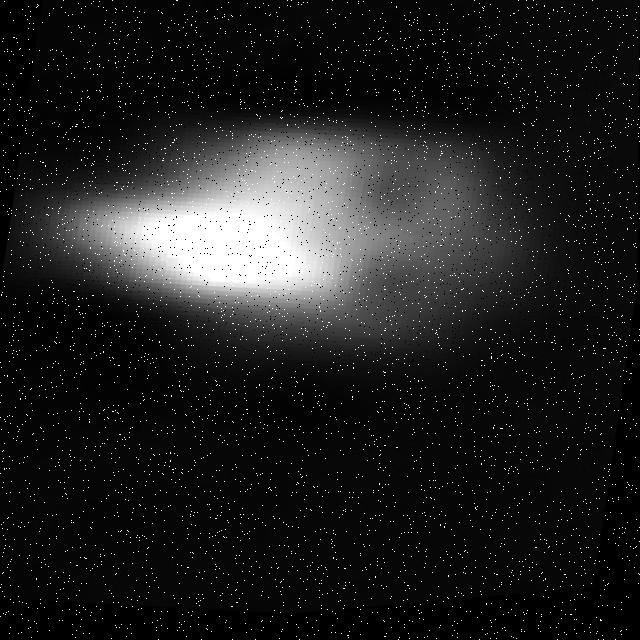person: (1, 60, 547, 424)
